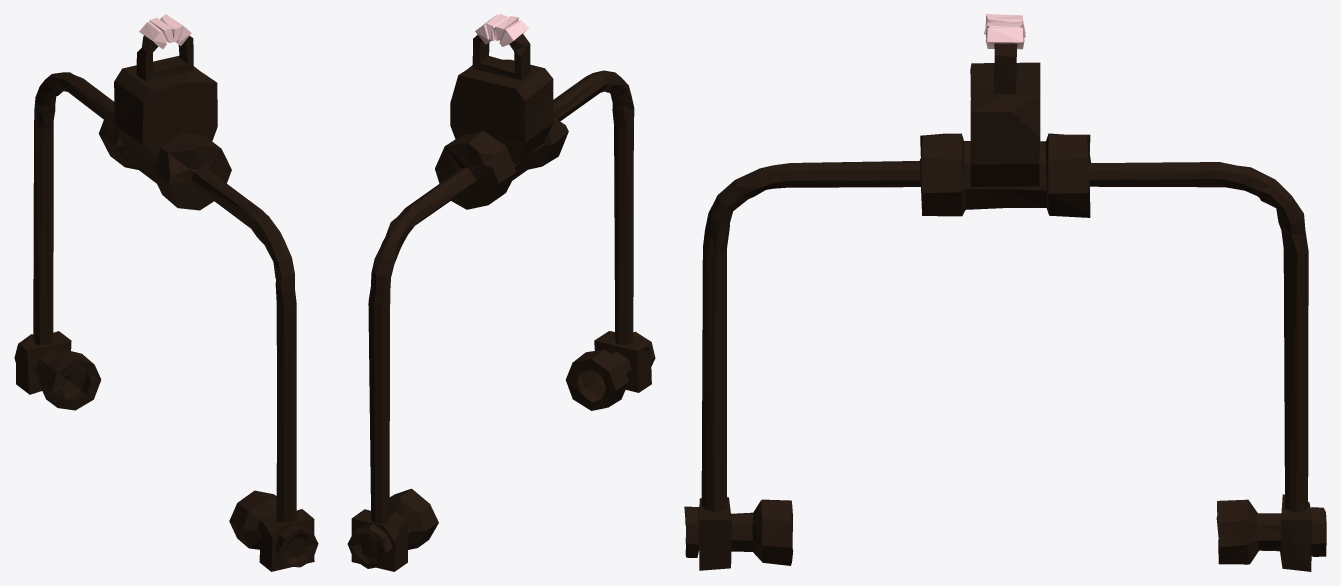
The model's file is SFFA_Forge_Prop_001.fbx.
3 views of the same model, side by side, from view 1: azimuth 30°, elevation 25°; view 2: azimuth 150°, elevation 25°; view 3: azimuth 270°, elevation 25° (orthographic). The views are drawn at different scales.
Parts seen in each view (by area): view 1: SFFA_Forge_Prop_001; view 2: SFFA_Forge_Prop_001; view 3: SFFA_Forge_Prop_001.
Boxes of the visible parts, left/top/right/bottom form: SFFA_Forge_Prop_001: left=14, top=14, right=318, bottom=571; SFFA_Forge_Prop_001: left=347, top=14, right=655, bottom=571; SFFA_Forge_Prop_001: left=684, top=14, right=1326, bottom=571.
Size of the model in its own units: 18.4 by 107 by 114.
